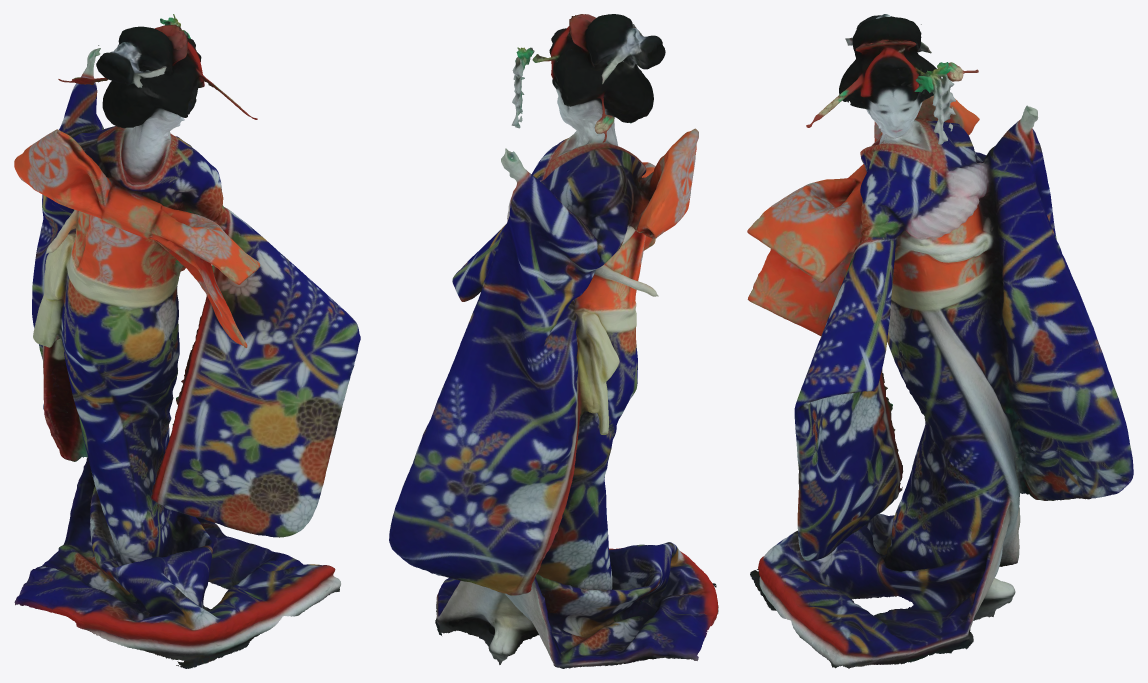
File: geisha_optimized.glb
The picture shows the model from 3 angles, left to right: view 1: azimuth 30°, elevation 25°; view 2: azimuth 150°, elevation 25°; view 3: azimuth 270°, elevation 25°; orthographic projection. The views are drawn at different scales.
Parts seen in each view (by area): view 1: Object_10; view 2: Object_10; view 3: Object_10.
Part boxes in pixels (x1,y1,x2,y2): Object_10: (14, 14, 360, 668); Object_10: (389, 14, 718, 668); Object_10: (747, 14, 1133, 668).
Size of the model in its own units: 1.54 by 3.09 by 1.88.
1 material, 1 textured.
